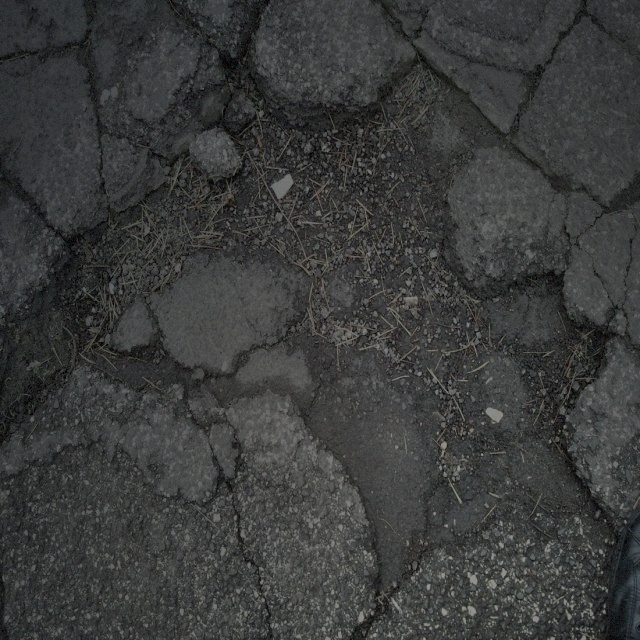pothole: (108, 56, 599, 562)
